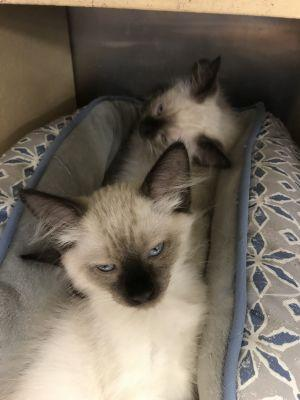siamese: (15, 138, 210, 335)
